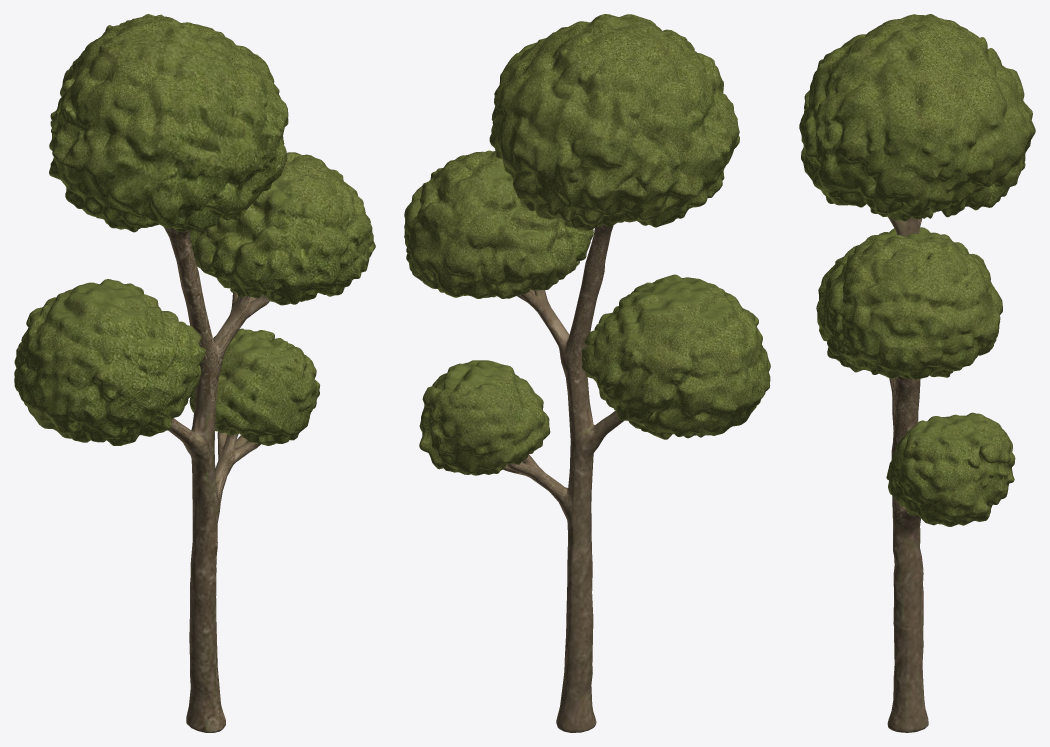
Rendered from roble_joven.glb.
3 views of the same model, side by side, from view 1: azimuth 30°, elevation 25°; view 2: azimuth 150°, elevation 25°; view 3: azimuth 270°, elevation 25° (orthographic). The views are drawn at different scales.
Parts seen in each view (by area): view 1: aligerado; view 2: aligerado; view 3: aligerado.
Part boxes in pixels (x1,y1,x2,y2): aligerado: [14, 14, 375, 732]; aligerado: [404, 14, 770, 732]; aligerado: [799, 14, 1035, 732].
Bounding box in the file's own units: 2.01 × 4 × 1.26.
1 material, 1 textured.
